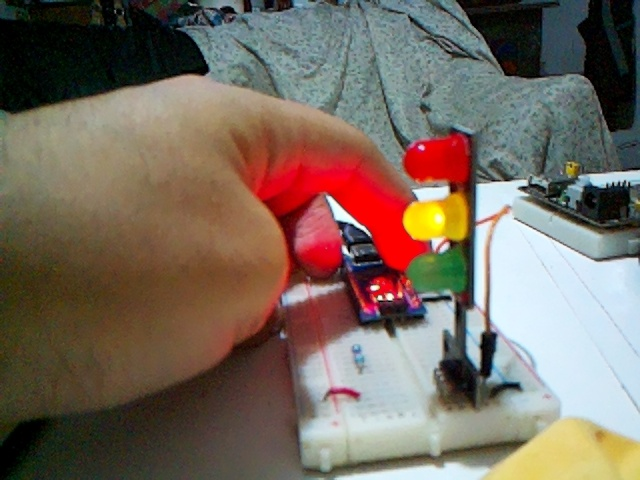traffic_light_yellow: (402, 129, 483, 395)
